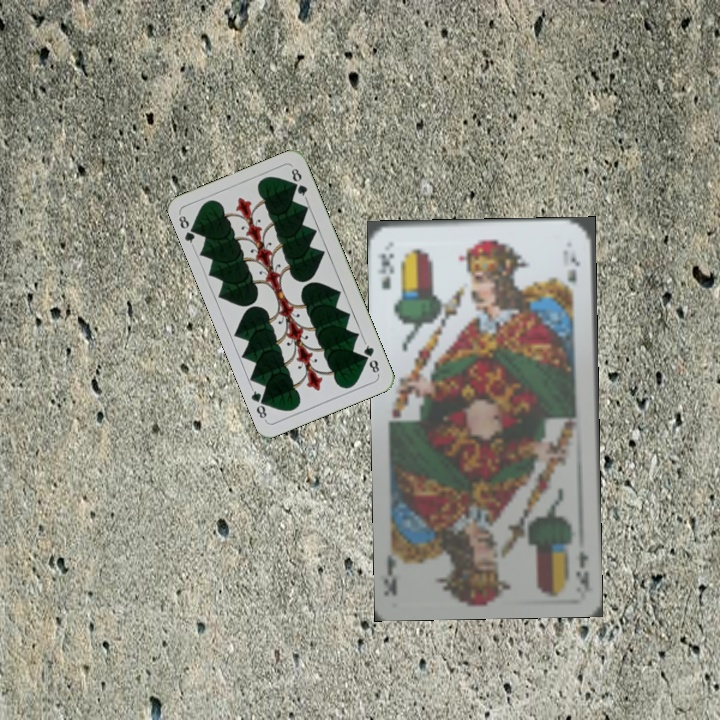EK: (571, 547, 594, 591), (374, 249, 397, 291)
G8: (174, 210, 201, 249), (359, 338, 382, 377)
